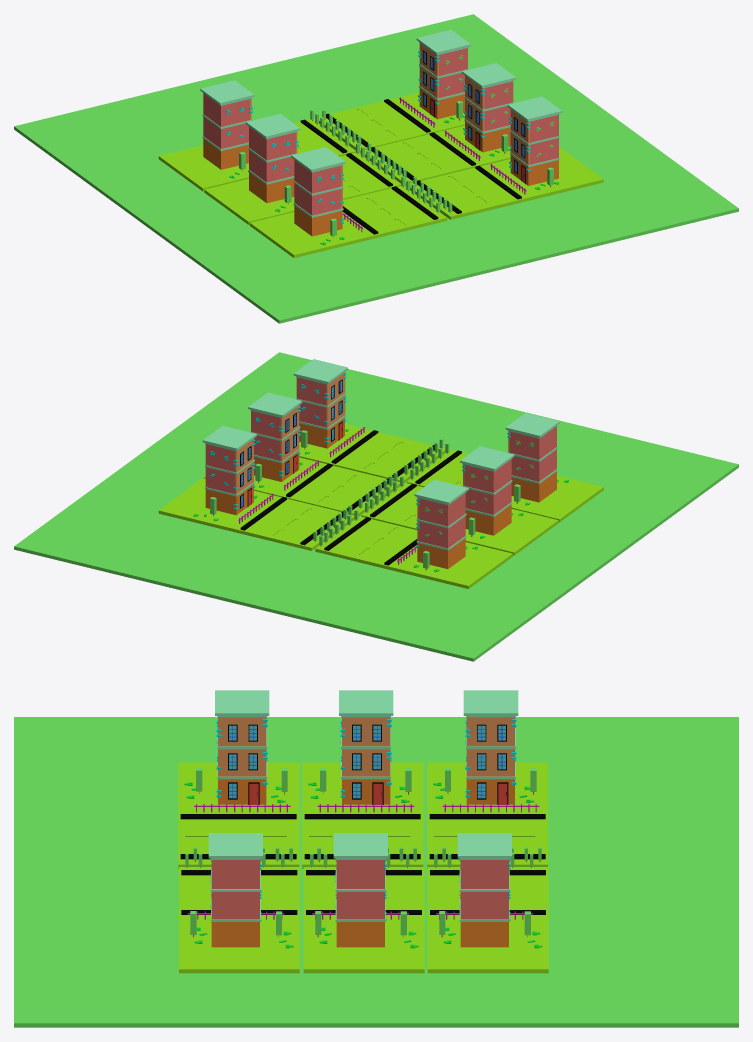
Rendered from finalcursorfiixed.glb.
The picture shows the model from 3 angles, top to bottom: view 1: azimuth 30°, elevation 25°; view 2: azimuth 150°, elevation 25°; view 3: azimuth 270°, elevation 25°; orthographic projection. The views are drawn at different scales.
Visible parts, largest first — view 1: Cube.001; view 2: Cube.001; view 3: Cube.001.
Boxes of the visible parts, x1,y1,x2,y2 form: Cube.001: [14, 14, 738, 323]; Cube.001: [14, 352, 738, 661]; Cube.001: [14, 690, 738, 1027].
Bounding box in the file's own units: 40.21 × 6.21 × 40.21.
